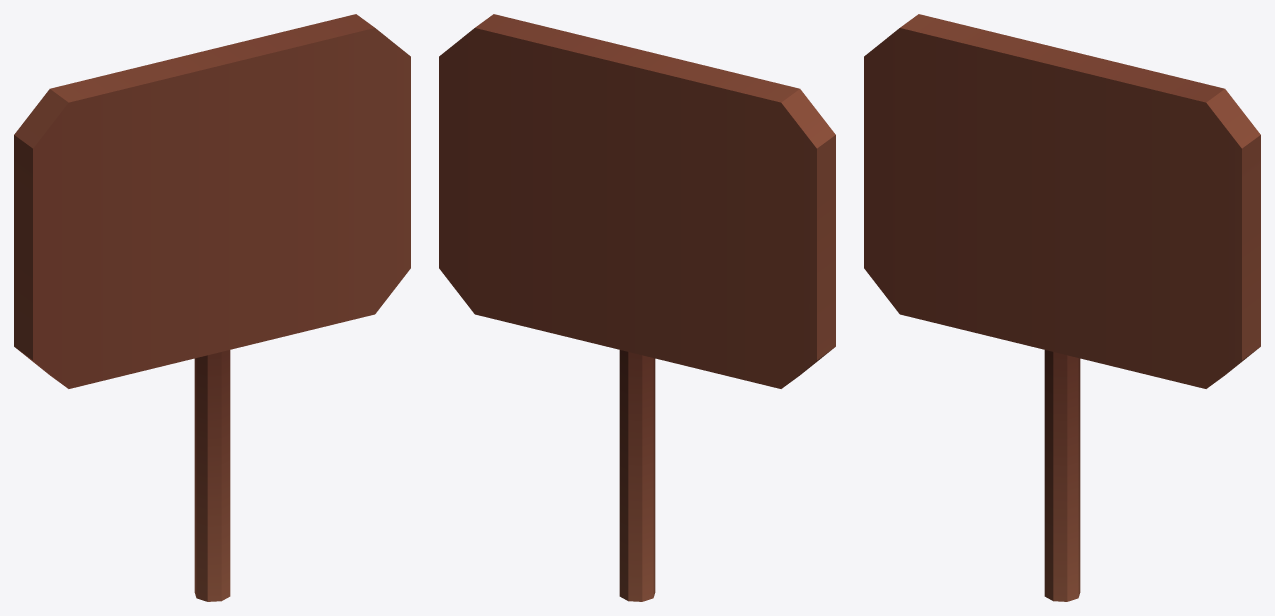
The model's file is wooden_sign.glb.
The picture shows the model from 3 angles, left to right: view 1: azimuth 30°, elevation 25°; view 2: azimuth 150°, elevation 25°; view 3: azimuth 330°, elevation 25°; orthographic projection.
Parts seen in each view (by area): view 1: Cube; view 2: Cube; view 3: Cube.
Part boxes in pixels (box(x1,y1,x2,y2)): Cube: box(14, 14, 410, 601); Cube: box(439, 14, 835, 601); Cube: box(864, 14, 1260, 601).
Size of the model in its own units: 2 by 2.71 by 0.1738.
1 material, 1 textured.
